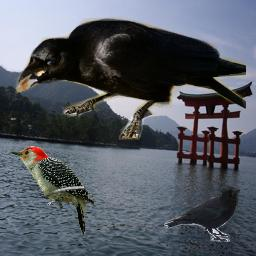Crow: (14, 17, 246, 140), (164, 187, 240, 242)
Woodpecker: (10, 146, 94, 236)
